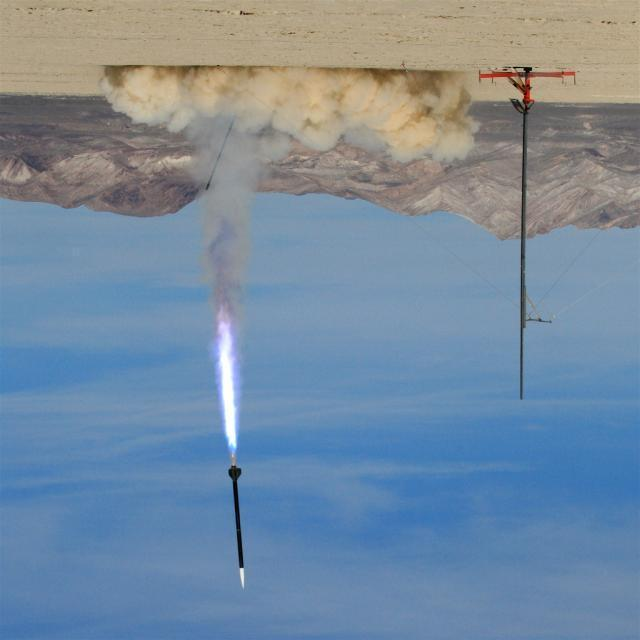Missile: (224, 462, 254, 594)
